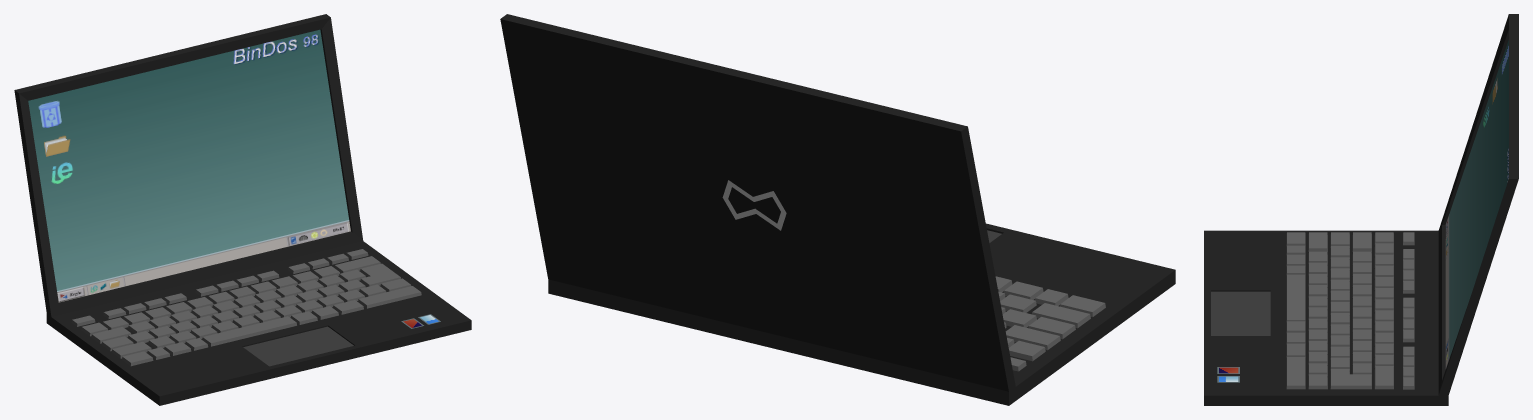
File: LaptopV1Black_T.fbx
The picture shows the model from 3 angles, left to right: view 1: azimuth 30°, elevation 25°; view 2: azimuth 150°, elevation 25°; view 3: azimuth 270°, elevation 25°; orthographic projection. The views are drawn at different scales.
Visible parts, largest first — view 1: LaptopV1Black_T; view 2: LaptopV1Black_T; view 3: LaptopV1Black_T.
Part boxes in pixels (x1,y1,x2,y2): LaptopV1Black_T: (14, 14, 471, 405); LaptopV1Black_T: (500, 14, 1175, 405); LaptopV1Black_T: (1204, 14, 1518, 405).
Size of the model in its own units: 38.38 by 24.64 by 30.96.
